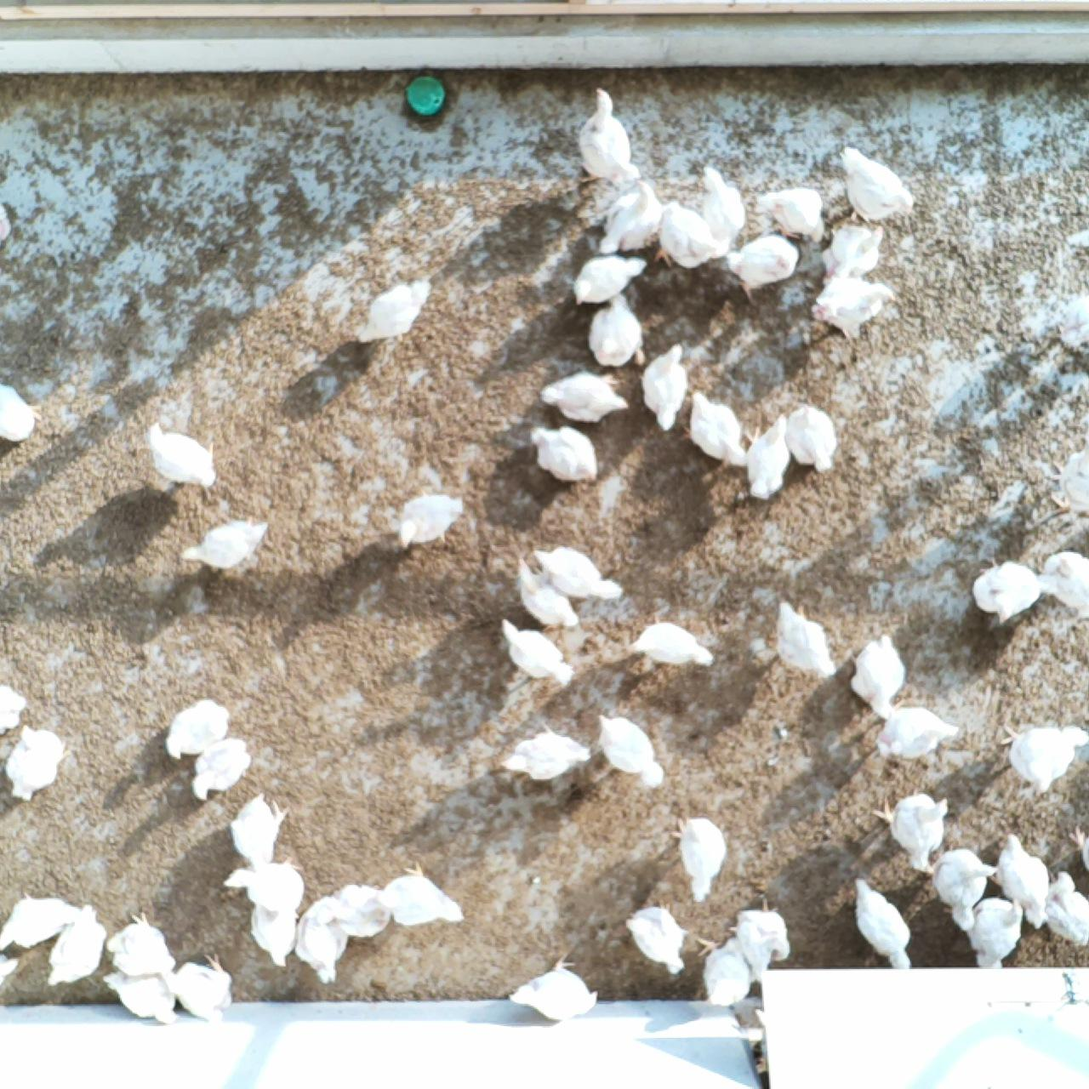chicken: (569, 84, 644, 190), (870, 786, 953, 879), (833, 139, 919, 228), (997, 718, 1089, 799), (506, 952, 602, 1028), (927, 839, 1000, 935), (850, 872, 920, 971), (179, 510, 275, 580), (762, 595, 838, 683), (810, 272, 901, 345), (497, 720, 592, 789), (991, 834, 1055, 933), (145, 417, 226, 495), (353, 276, 437, 351), (37, 901, 107, 991), (497, 614, 578, 690), (680, 387, 753, 470), (594, 708, 667, 791), (626, 606, 716, 673), (842, 632, 908, 723), (529, 543, 624, 606), (538, 366, 630, 431), (378, 862, 468, 928), (723, 230, 802, 304), (160, 950, 237, 1025), (739, 408, 797, 506), (871, 703, 962, 765), (671, 813, 731, 907), (1, 724, 70, 805), (596, 178, 664, 260), (585, 286, 649, 373), (959, 891, 1029, 970), (512, 553, 583, 630), (652, 199, 723, 275), (638, 341, 696, 434), (967, 556, 1044, 626), (623, 903, 690, 981), (103, 962, 181, 1029), (159, 694, 235, 762), (228, 789, 293, 868), (105, 909, 178, 979), (221, 859, 311, 915), (185, 735, 254, 807), (297, 898, 352, 988), (0, 892, 83, 951), (723, 893, 791, 965), (528, 421, 602, 486), (755, 181, 828, 246), (318, 879, 389, 945), (694, 934, 756, 1008), (821, 220, 889, 287), (396, 490, 467, 553), (569, 253, 647, 310), (694, 162, 745, 247), (783, 400, 840, 475), (1034, 541, 1089, 618), (1041, 442, 1089, 525), (1043, 866, 1089, 949), (246, 901, 301, 970), (0, 380, 43, 447), (1057, 288, 1089, 350), (0, 676, 27, 738)
